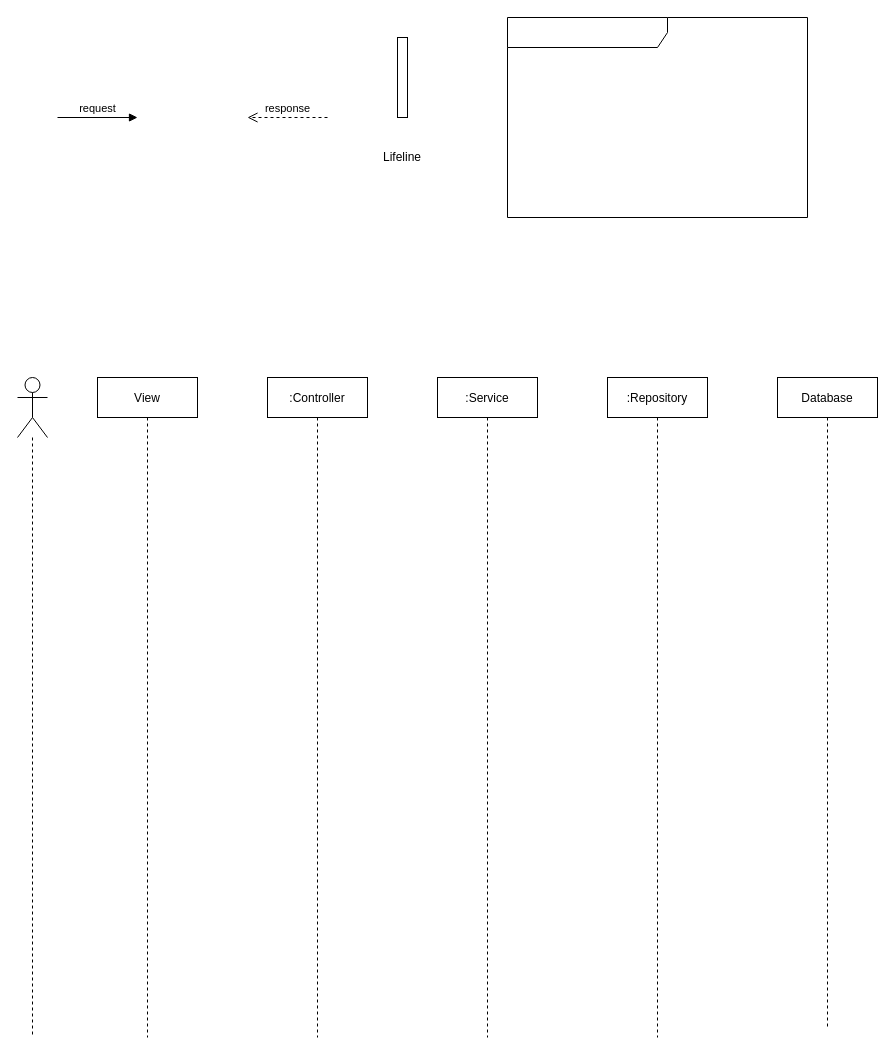
This 895x1056 diagram has some shape labels left out. The centre of each missing label's shape, as x and y in pixels:
"alternative" belongs at (657,117).
"User" belongs at (32,407).
